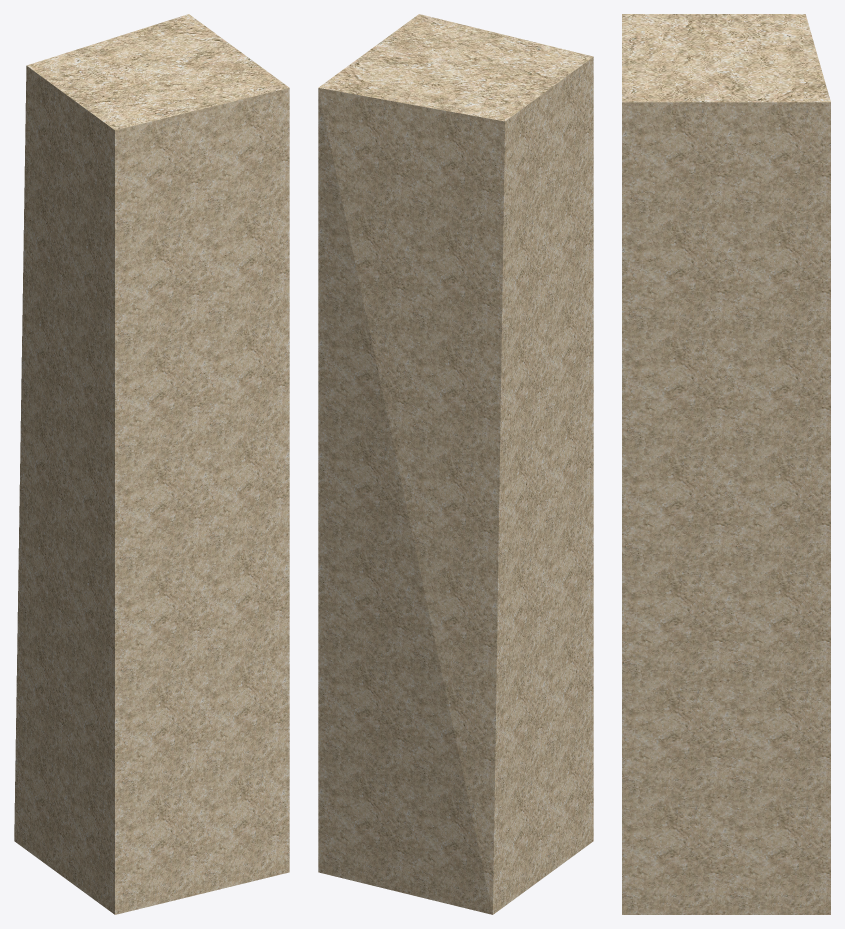
File: thm_tato_imprv_pillar_damaged_s01_l2.fbx
3 renders of one model, left to right at view 1: azimuth 30°, elevation 25°; view 2: azimuth 150°, elevation 25°; view 3: azimuth 270°, elevation 25°, orthographic. The views are drawn at different scales.
Parts seen in each view (by area): view 1: mesh_node; view 2: mesh_node; view 3: mesh_node.
Boxes of the visible parts, left/top/right/bottom form: mesh_node: left=14, top=14, right=289, bottom=914; mesh_node: left=318, top=14, right=593, bottom=914; mesh_node: left=622, top=14, right=830, bottom=914.
Size of the model in its own units: 1 by 4.29 by 1.
